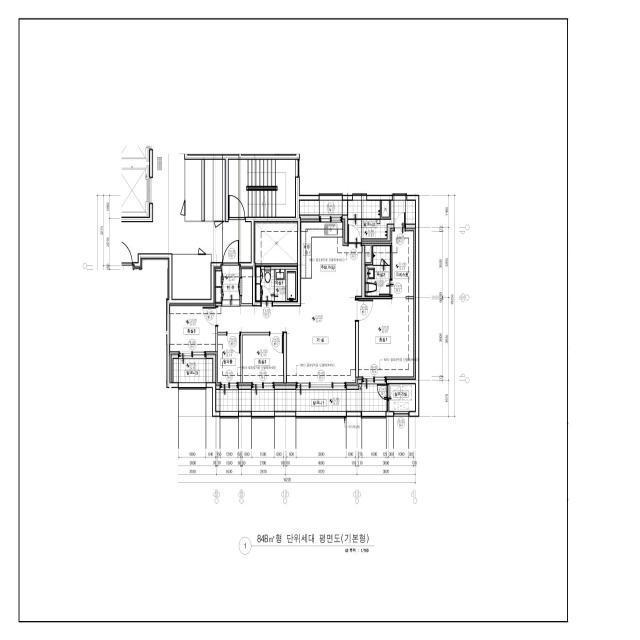space_balconi: (300, 201, 415, 242), (216, 384, 387, 411), (173, 359, 212, 382)
space_bedroom: (359, 299, 415, 379), (170, 304, 216, 354), (242, 335, 283, 385)
space_dressroom: (390, 228, 415, 296)
space_elevator: (121, 164, 149, 217), (122, 146, 149, 162)
space_elevator_hall: (121, 154, 251, 263)
space_front: (214, 265, 252, 306)
space_kitchen: (301, 219, 362, 296)
space_living_room: (218, 298, 357, 385)
space_other: (255, 222, 297, 263), (172, 255, 211, 299), (216, 335, 241, 385), (205, 160, 225, 221), (185, 160, 202, 221), (382, 201, 389, 217), (365, 246, 371, 262)
space_outdoor_room: (389, 384, 415, 411)
space_staircase: (229, 160, 295, 217)
space_toilet: (256, 267, 297, 301), (366, 246, 390, 296)
